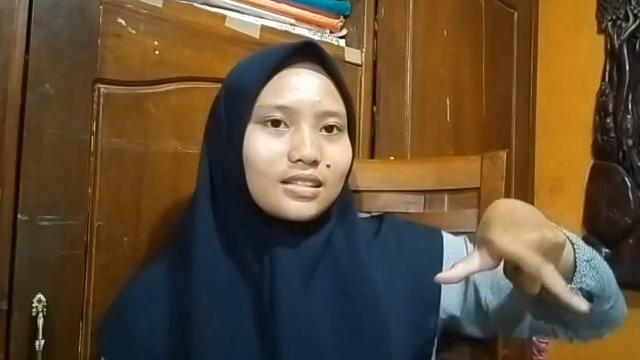Q: (434, 194, 596, 318)
